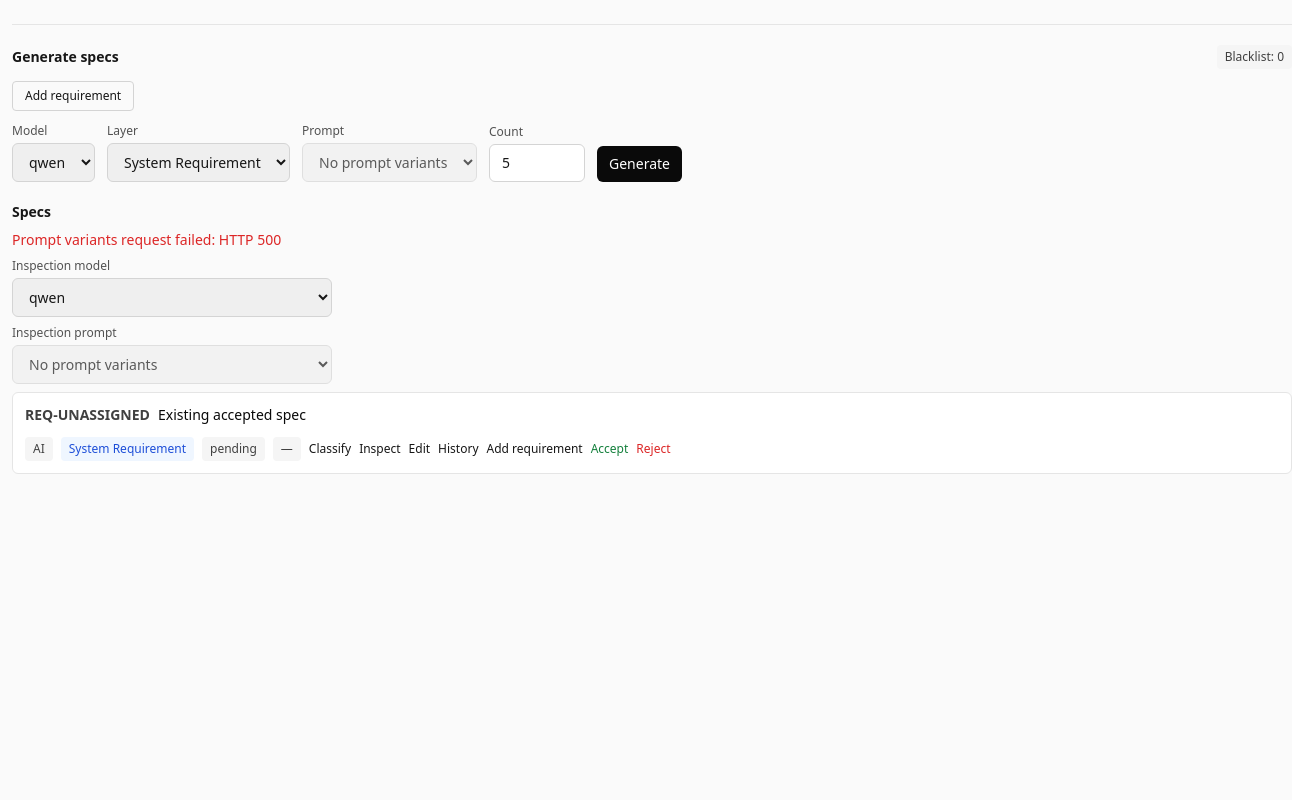
GenerationPanel › clears auto-classifying state and still classifies when spec tree refresh fails
Expected: the button "Existing accepted spec" is shown, [25, 405, 1279, 425]
Click the button "Generate" at coordinates (640, 164), box [597, 146, 682, 182]
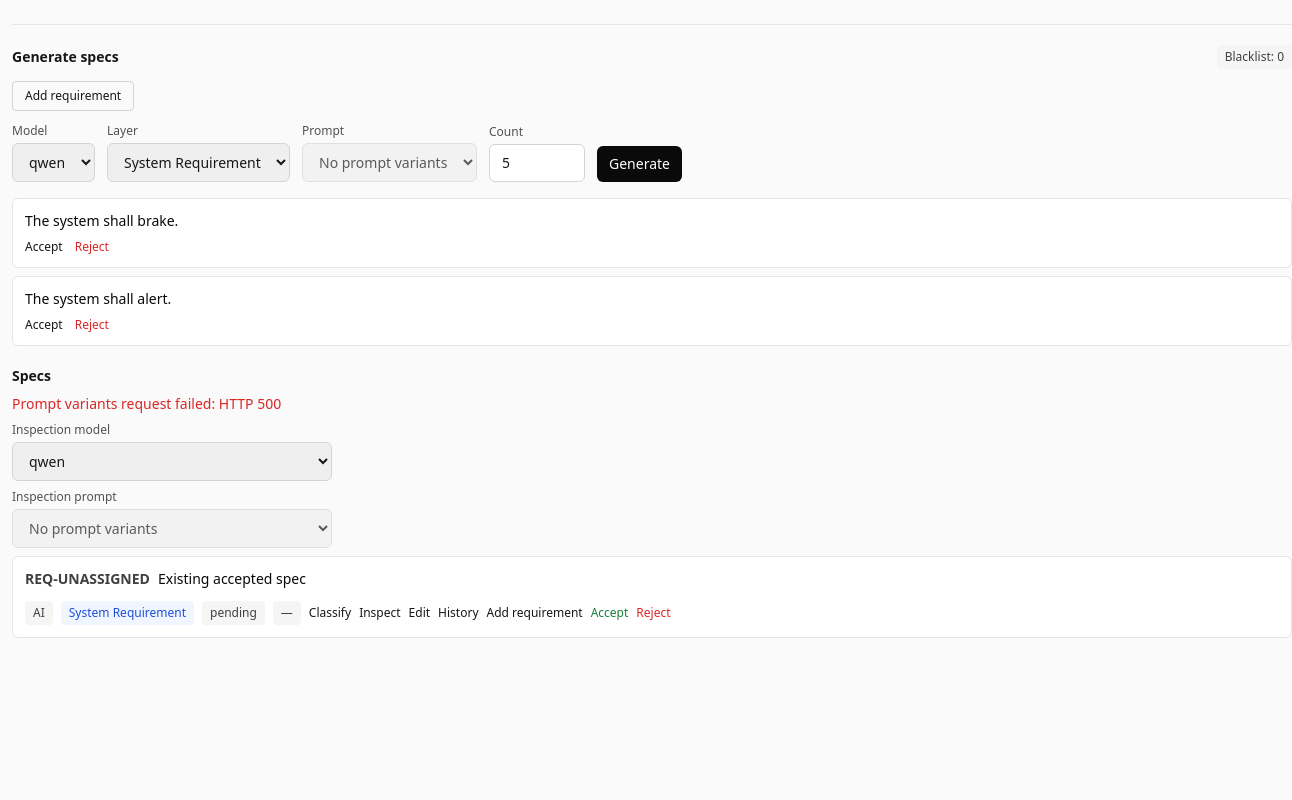
Expected: the text "The system shall brake." is shown, [25, 211, 178, 230]
Click the button "Accept" below "The system shall brake." at coordinates (44, 247), box [25, 239, 63, 255]
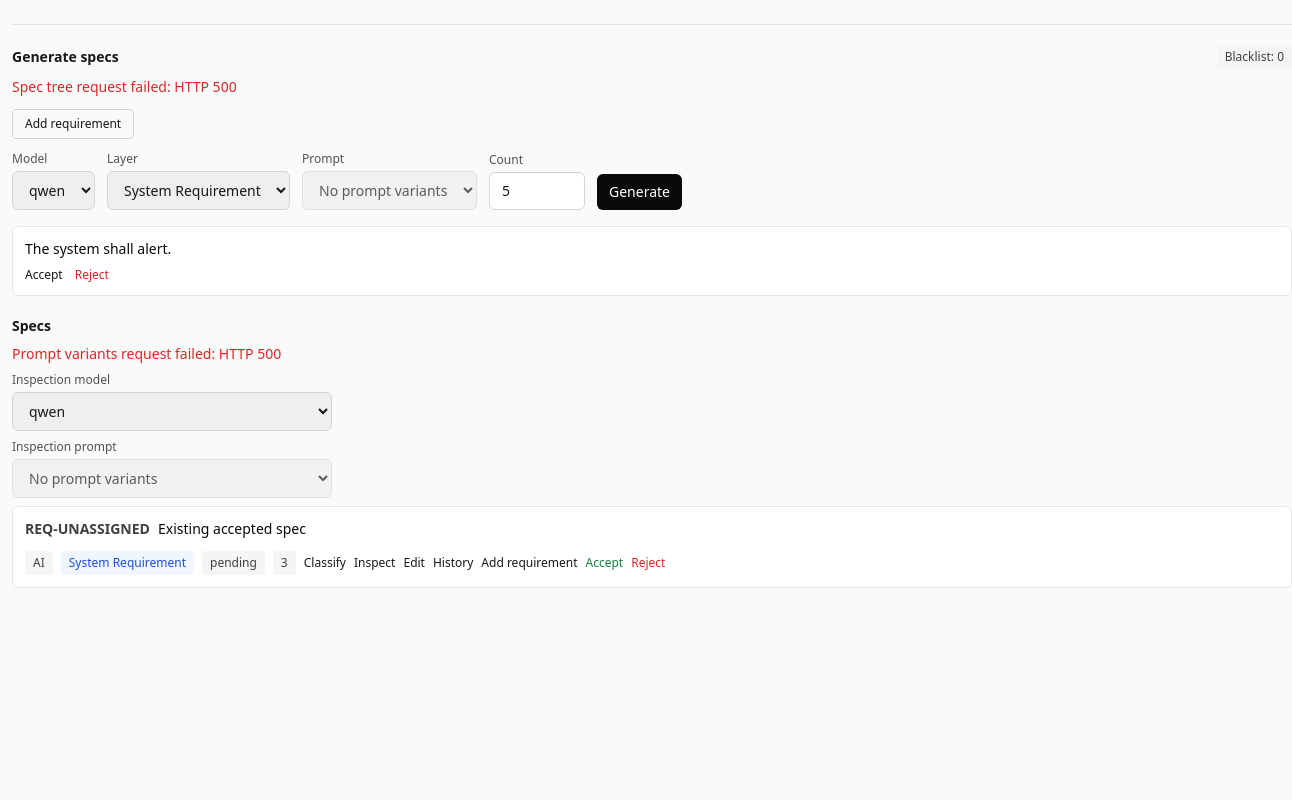
Expected: the text "Spec tree request failed: HTTP 500" is shown, [12, 77, 237, 96]
